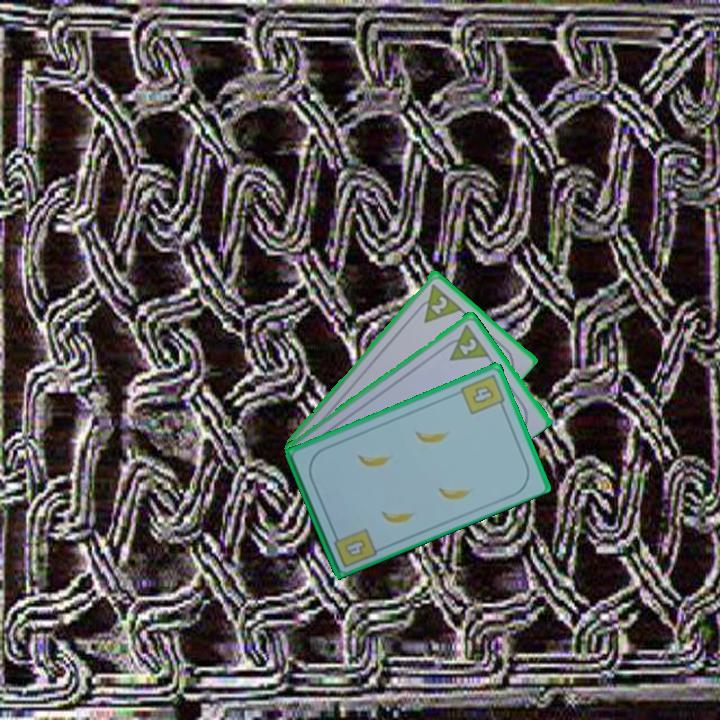2p: (456, 334, 480, 358), (427, 292, 450, 317)
4b: (457, 371, 508, 417), (329, 525, 379, 570)
